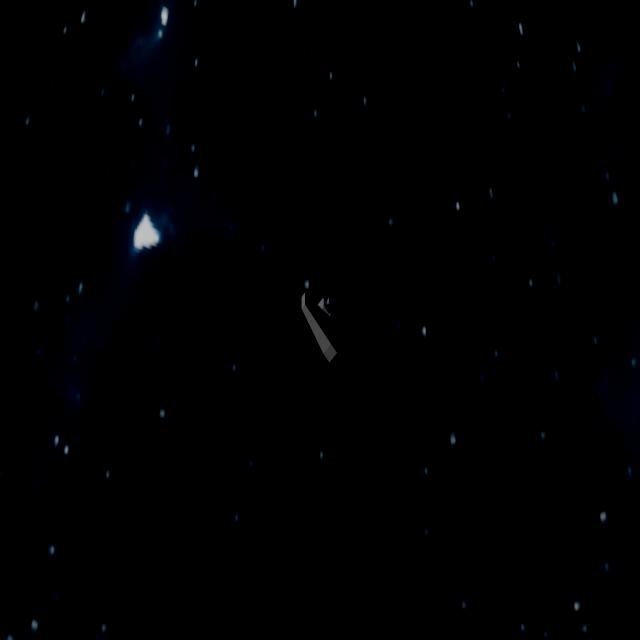large_debris: (293, 276, 342, 386)
